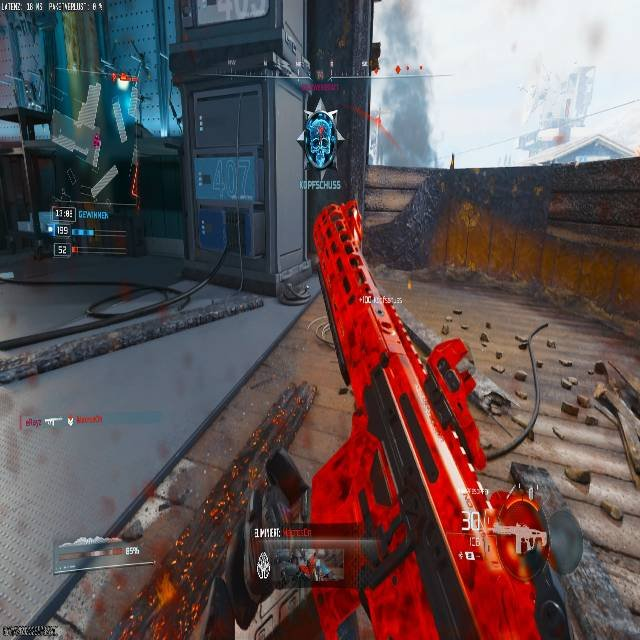player: (301, 97, 344, 182)
